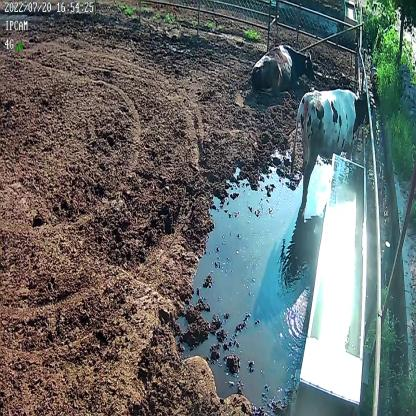cow: (290, 84, 375, 209), (249, 42, 315, 97)
